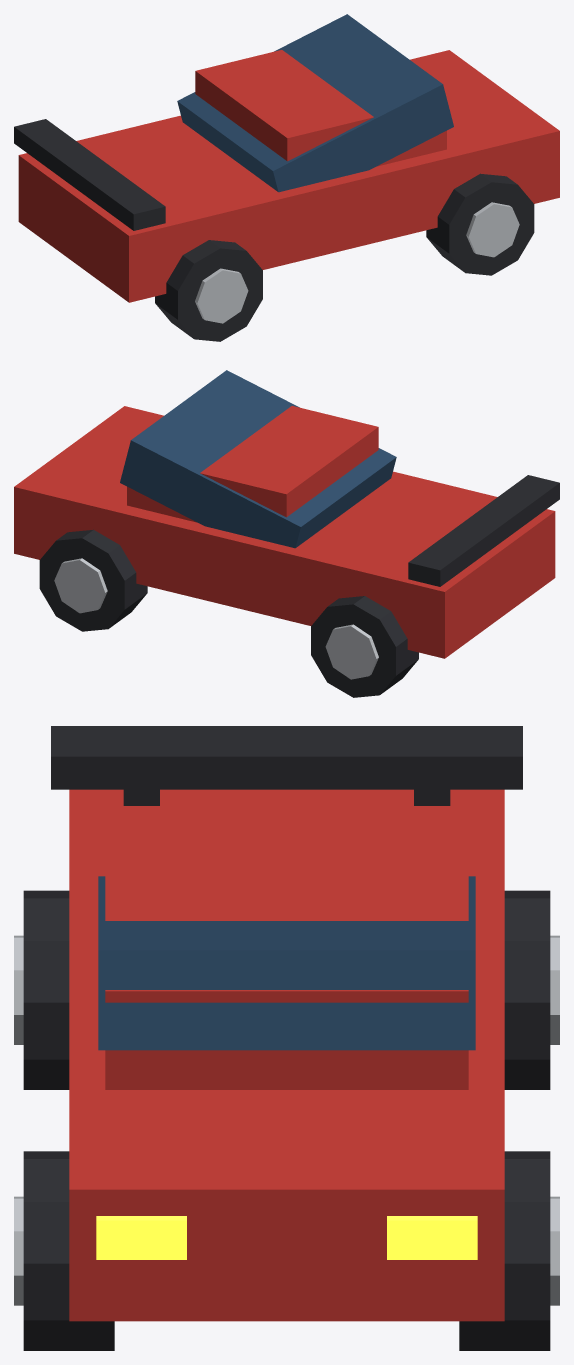
File: car.glb
3 views of the same model, one above another, from view 1: azimuth 30°, elevation 25°; view 2: azimuth 150°, elevation 25°; view 3: azimuth 270°, elevation 25° (orthographic). The views are drawn at different scales.
Visible parts, largest first — view 1: car; view 2: car; view 3: car.
Boxes of the visible parts, x1,y1,x2,y2 form: car: (14, 14, 559, 341); car: (14, 370, 559, 697); car: (14, 726, 559, 1350).
Bounding box in the file's own units: 0.8736 × 0.3544 × 0.4813.
